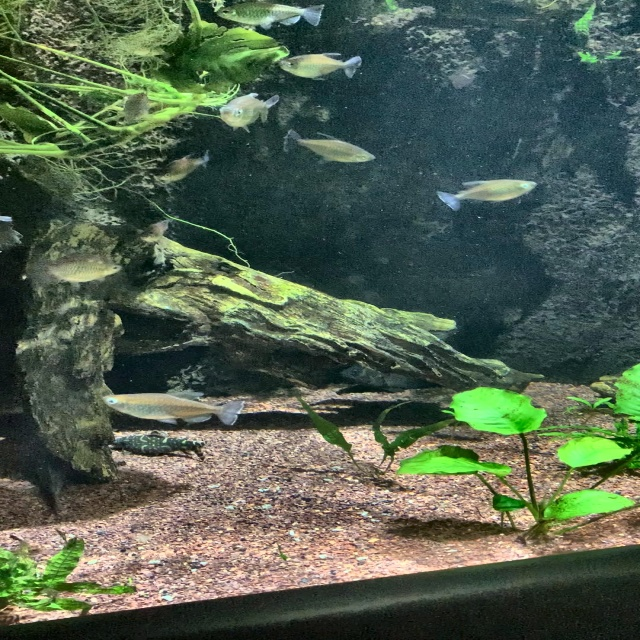fish: (98, 391, 244, 430), (206, 0, 329, 32), (431, 178, 542, 213), (26, 252, 129, 288), (285, 133, 380, 168), (216, 93, 284, 132), (108, 431, 208, 457), (281, 56, 364, 81), (155, 149, 213, 182)
